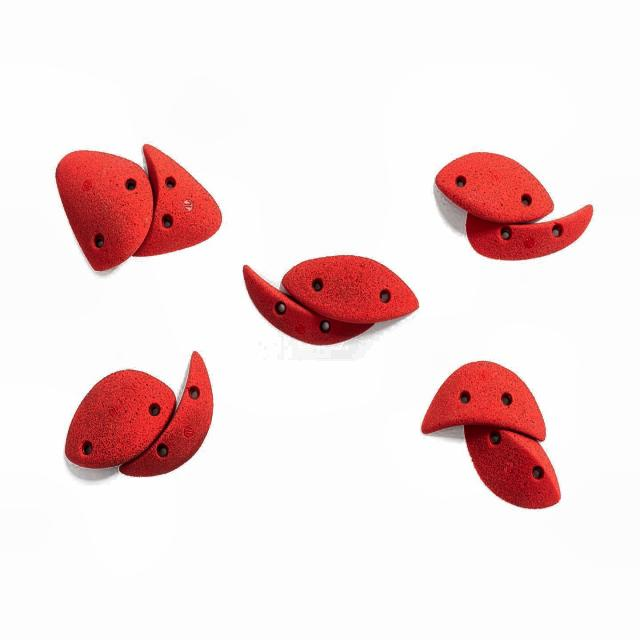Hold: (54, 139, 232, 265), (414, 364, 562, 514), (64, 355, 220, 478), (435, 140, 596, 258), (240, 269, 429, 342)
